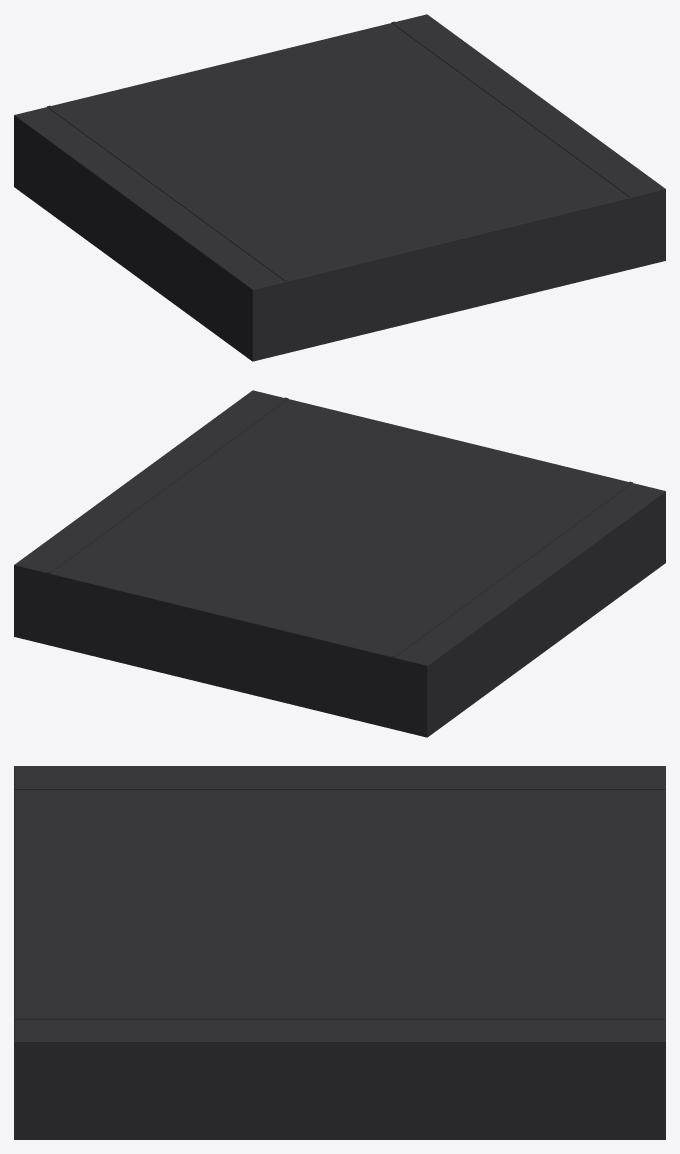
The model's file is roof_flat_120.glb.
3 renders of one model, top to bottom at view 1: azimuth 30°, elevation 25°; view 2: azimuth 150°, elevation 25°; view 3: azimuth 270°, elevation 25°, orthographic. The views are drawn at different scales.
Visible parts, largest first — view 1: roof_flat_120-col; view 2: roof_flat_120-col; view 3: roof_flat_120-col.
Boxes of the visible parts, box(x1,y1,x2,y2) form: roof_flat_120-col: box(14, 14, 665, 361); roof_flat_120-col: box(14, 390, 665, 737); roof_flat_120-col: box(14, 766, 665, 1139).
Size of the model in its own units: 1.2 by 0.202 by 1.2.
3 materials, 3 textured.
